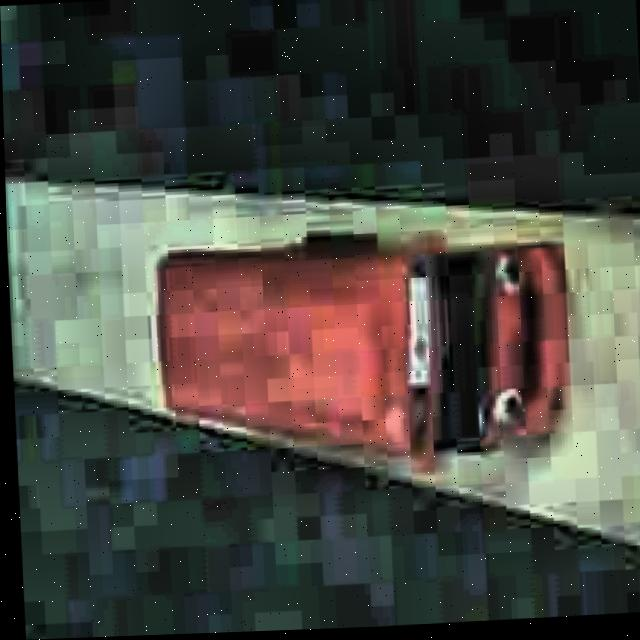bus: (149, 216, 577, 487)
